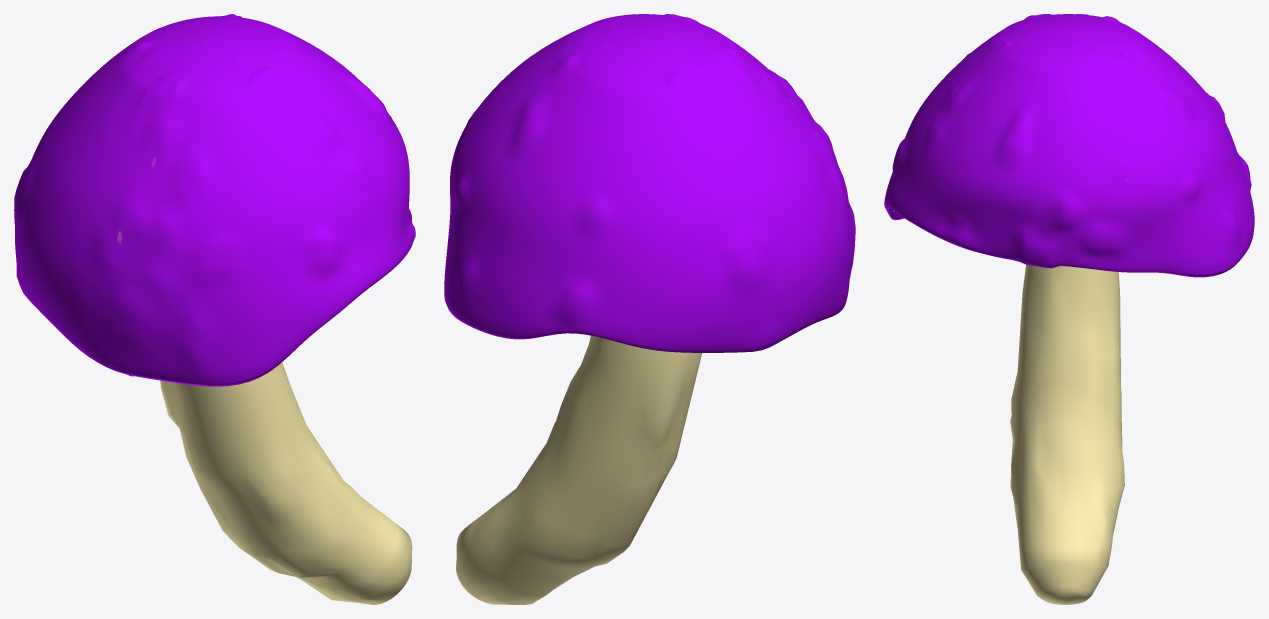
Rendered from mushroom.fbx.
The picture shows the model from 3 angles, left to right: view 1: azimuth 30°, elevation 25°; view 2: azimuth 150°, elevation 25°; view 3: azimuth 270°, elevation 25°; orthographic projection. The views are drawn at different scales.
Visible parts, largest first — view 1: Cylinder; view 2: Cylinder; view 3: Cylinder.
Part boxes in pixels (x1,y1,x2,y2): Cylinder: (14,14,415,604); Cylinder: (444,14,855,604); Cylinder: (884,14,1254,604).
Size of the model in its own units: 141 by 222 by 146.
